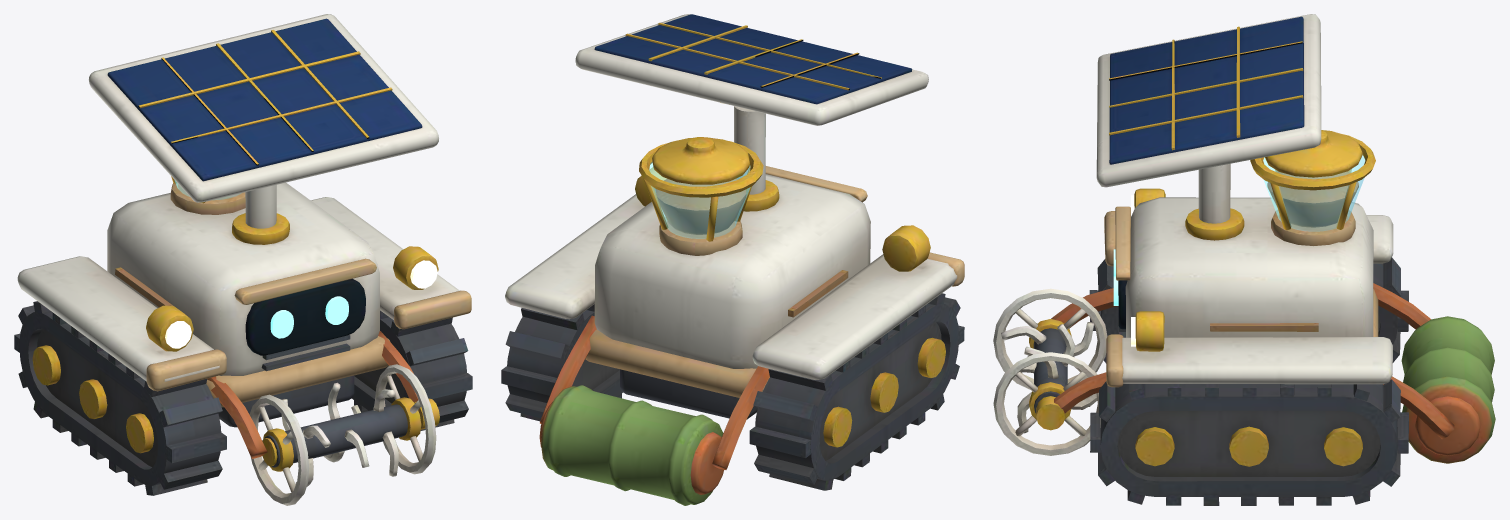
File: cultivator.glb
3 renders of one model, left to right at view 1: azimuth 30°, elevation 25°; view 2: azimuth 150°, elevation 25°; view 3: azimuth 270°, elevation 25°, orthographic.
Parts seen in each view (by area): view 1: chassis, canopy, treadL, tineDrum, treadR; view 2: chassis, treadL, canopy, mossRoller, hopper, treadR, seedFill; view 3: chassis, treadR, canopy, mossRoller, tineDrum, hopper, treadL, seedFill.
Boxes of the visible parts, x1,y1,x2,y2 form: chassis: (17,182,471,466); canopy: (88,14,438,202); treadL: (14,301,226,495); tineDrum: (249,364,436,505); treadR: (351,310,472,430); chassis: (505,106,964,469); treadL: (749,293,964,490); canopy: (575,14,928,125); mossRoller: (539,385,723,505); hopper: (639,137,763,241); treadR: (501,304,622,421); seedFill: (655,179,746,234); chassis: (1036,163,1454,439); treadR: (1090,379,1408,505); canopy: (1096,14,1321,187); mossRoller: (1401,316,1495,463); tineDrum: (993,288,1107,455); hopper: (1250,130,1375,231); treadL: (1089,257,1408,363); seedFill: (1267,171,1358,227).
Bounding box in the file's own units: 0.7551 × 0.8102 × 1.01.
14 materials, 11 textured.
